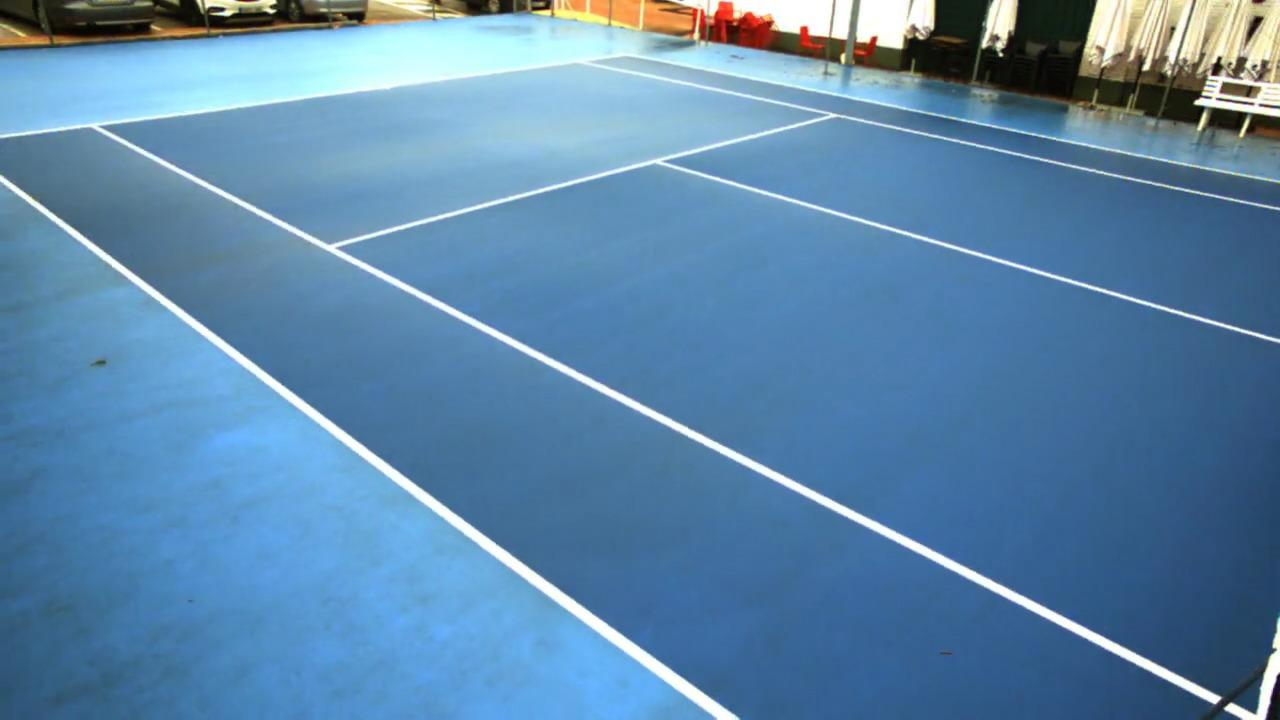cancha_tenis: (94, 56, 1280, 720)
point_f1: (84, 114, 113, 138)
point_f2: (566, 51, 600, 74)
point_fc1: (377, 79, 399, 99)
point_i1: (313, 231, 356, 262)
point_i2: (812, 106, 849, 126)
point_ic1: (643, 150, 677, 174)
